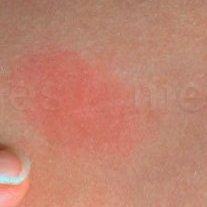Mosquito: (21, 40, 120, 154)
